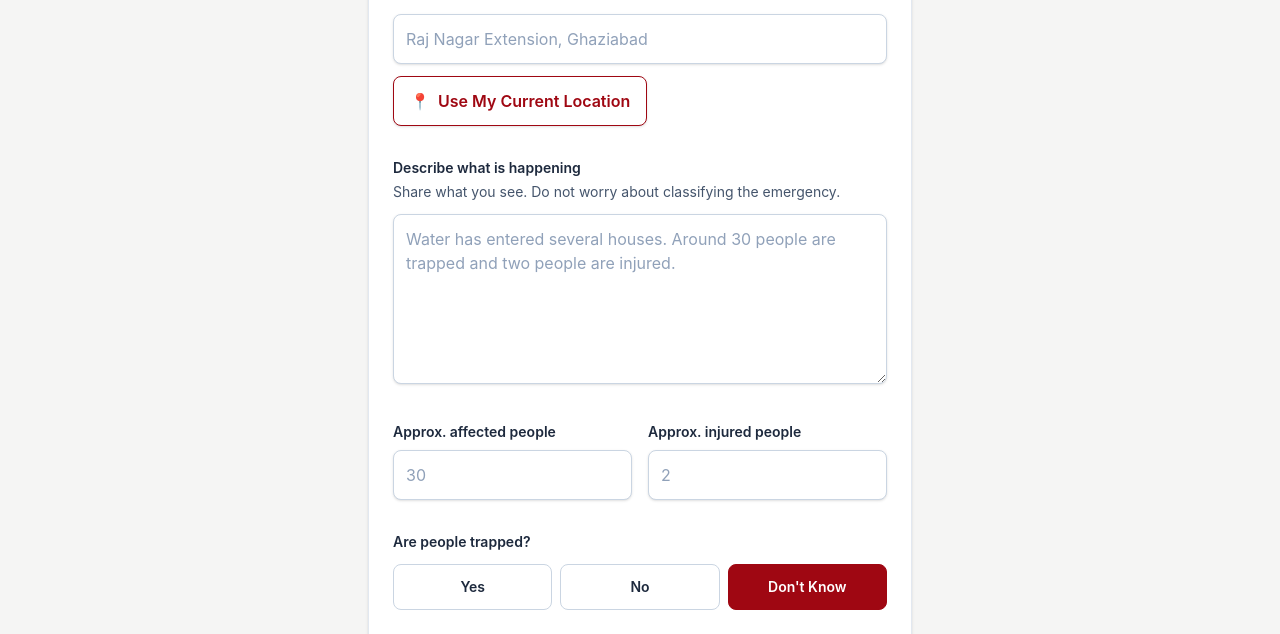
Report Emergency form › blocks submission when location is missing
(page scrolled)
Type "Need immediate help at this location." into the text box labelled "Describe what is happening".
click(640, 299); type("Need immediate help at this location.")  # box [393,214,887,384]
(page scrolled)
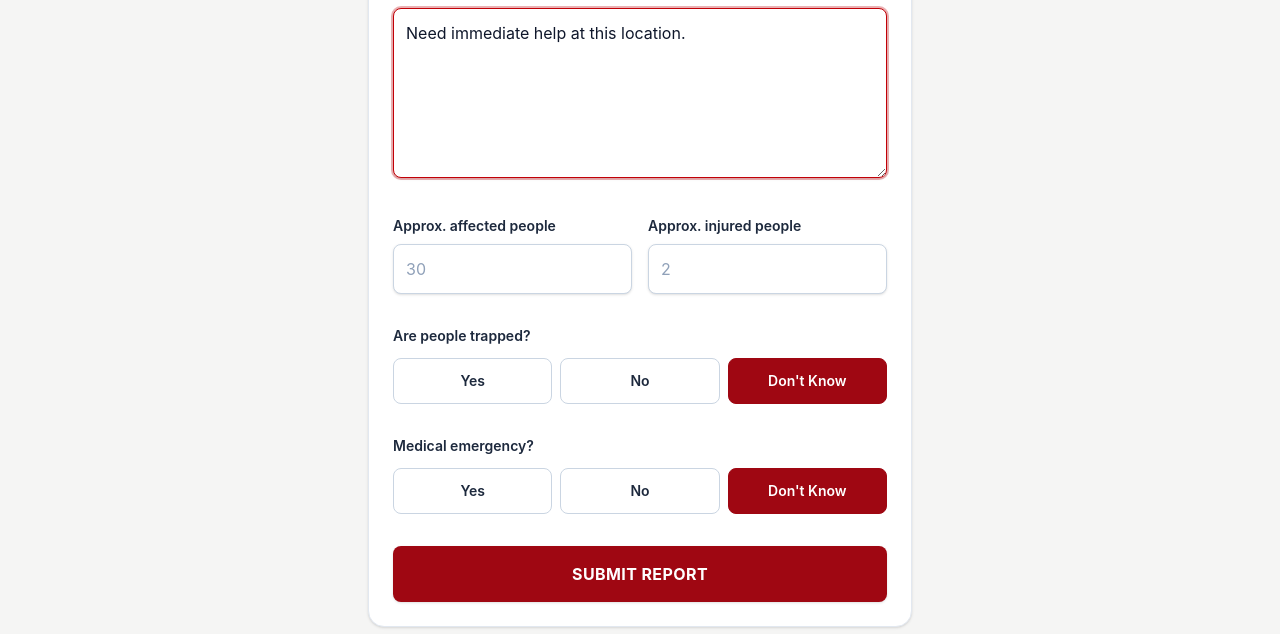
Click the button "SUBMIT REPORT".
click(640, 574)  # box [393,546,887,602]
(page scrolled)
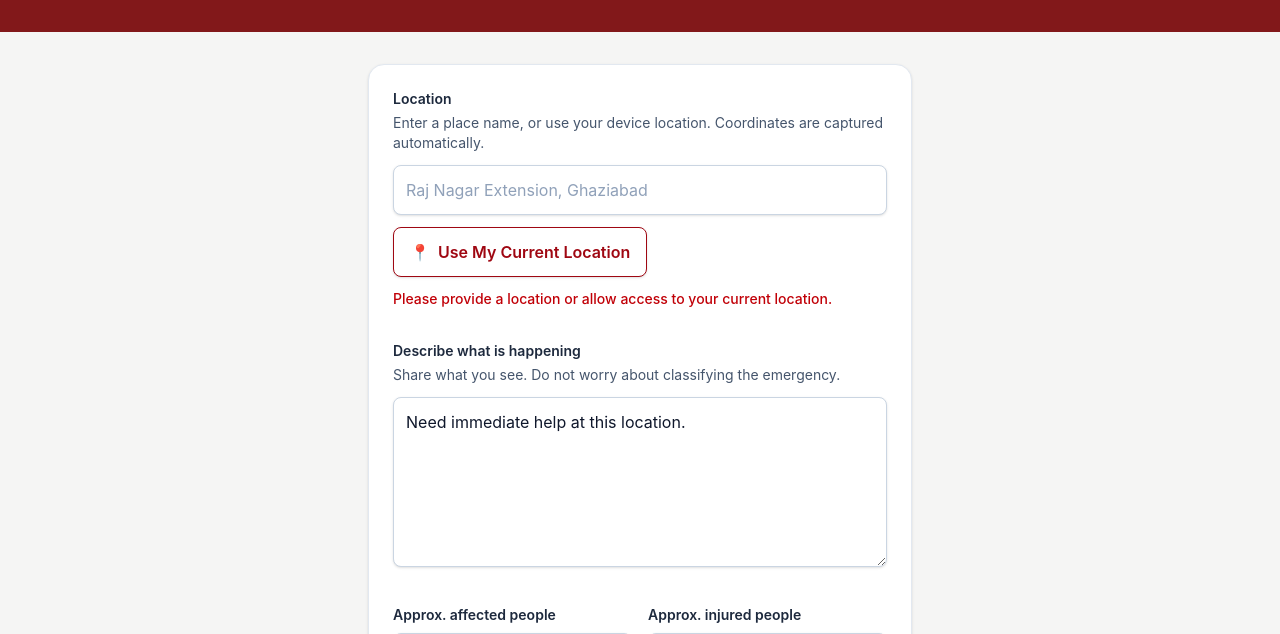
Check: the text "Please provide a location or allow access to your current location." is shown, box [393,289,887,309]
